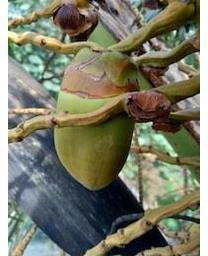coconut: (54, 46, 141, 188)
